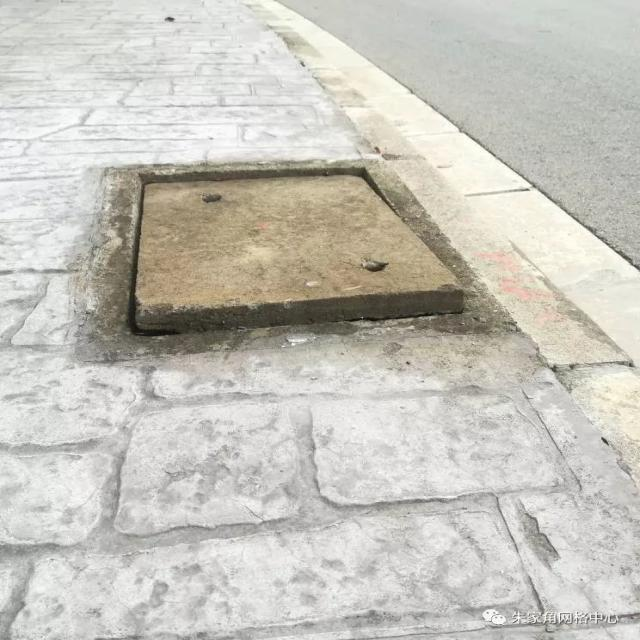manhole: (128, 164, 464, 334)
